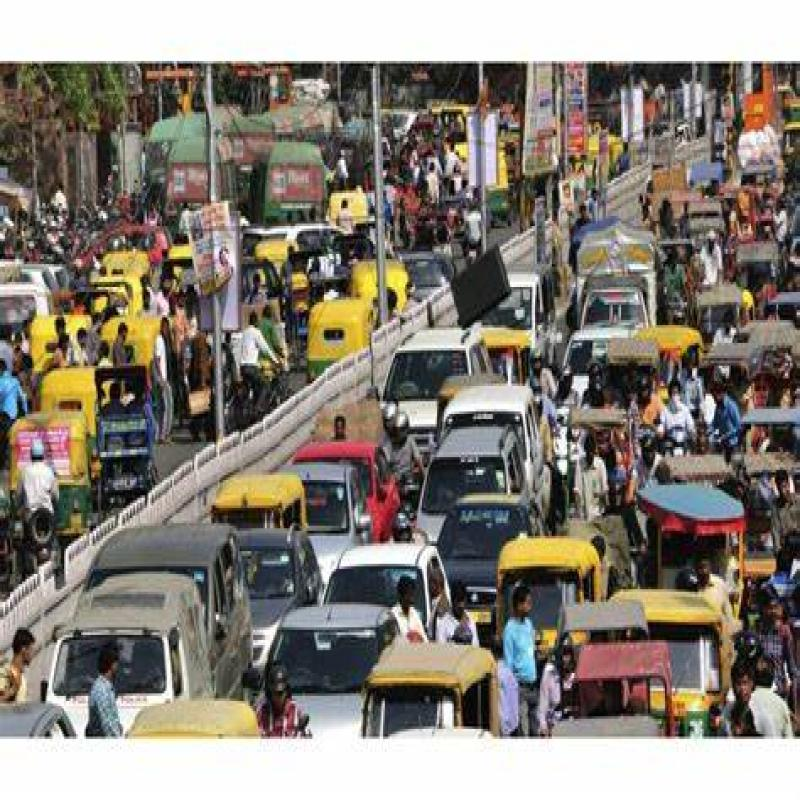auto: (483, 522, 606, 712), (610, 582, 729, 736), (8, 414, 102, 536), (39, 376, 114, 491), (306, 288, 378, 403), (350, 258, 408, 342)
car: (249, 593, 399, 742), (316, 527, 466, 642)
